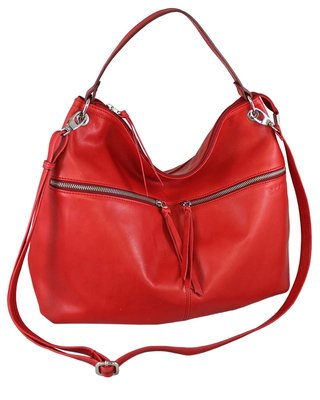cartera: (5, 3, 318, 387)
cuero: (3, 1, 316, 385)
